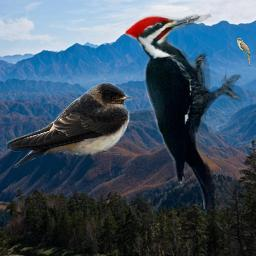Cuckoo: (235, 37, 251, 68)
Swallow: (6, 82, 132, 168)
Woodpecker: (125, 11, 242, 209)
